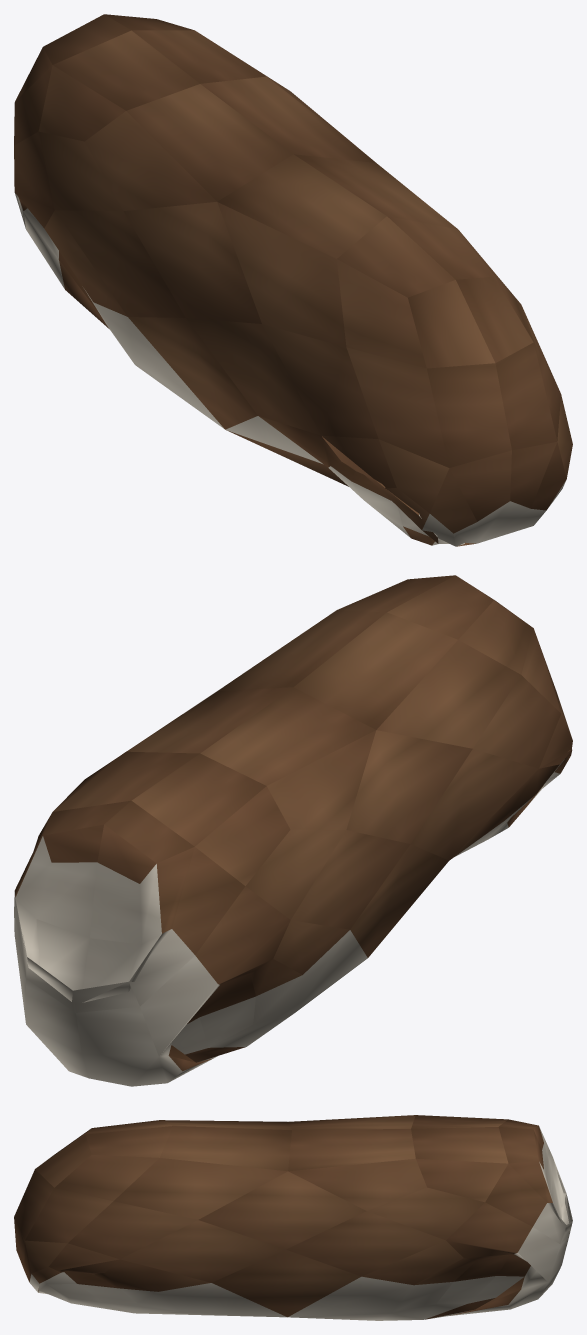
The model's file is SM_Deer_Body.fbx.
3 views of the same model, one above another, from view 1: azimuth 30°, elevation 25°; view 2: azimuth 150°, elevation 25°; view 3: azimuth 270°, elevation 25° (orthographic). The views are drawn at different scales.
Parts seen in each view (by area): view 1: SM_Deer_Body; view 2: SM_Deer_Body; view 3: SM_Deer_Body.
Boxes of the visible parts, x1=… form: SM_Deer_Body: x1=14, y1=14, x2=572, y2=546; SM_Deer_Body: x1=14, y1=575, x2=572, y2=1086; SM_Deer_Body: x1=14, y1=1115, x2=572, y2=1320.
Bounding box in the file's own units: 1.32 × 1.52 × 4.25.
1 material, 1 textured.
